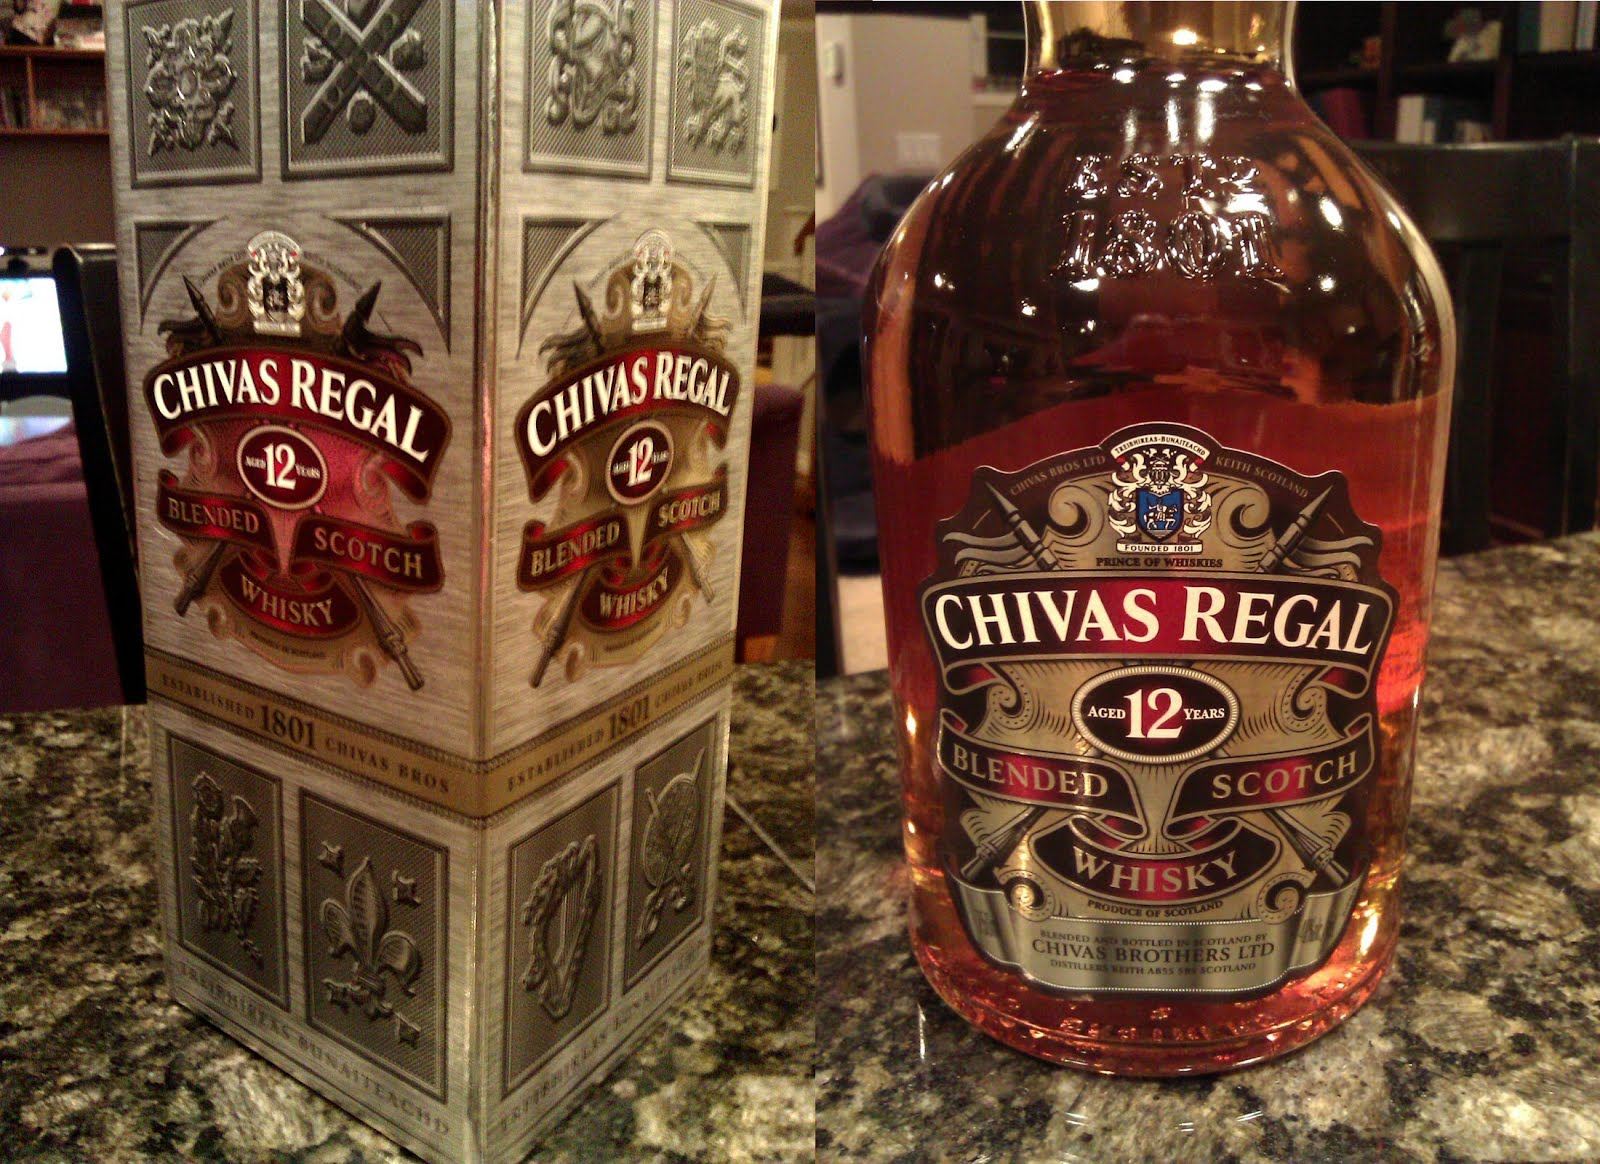Chivas Regal: (848, 2, 1465, 1088)
